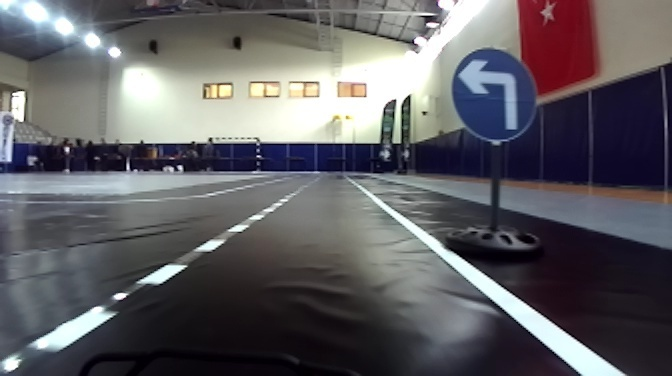sola_donus: (445, 48, 546, 137)
